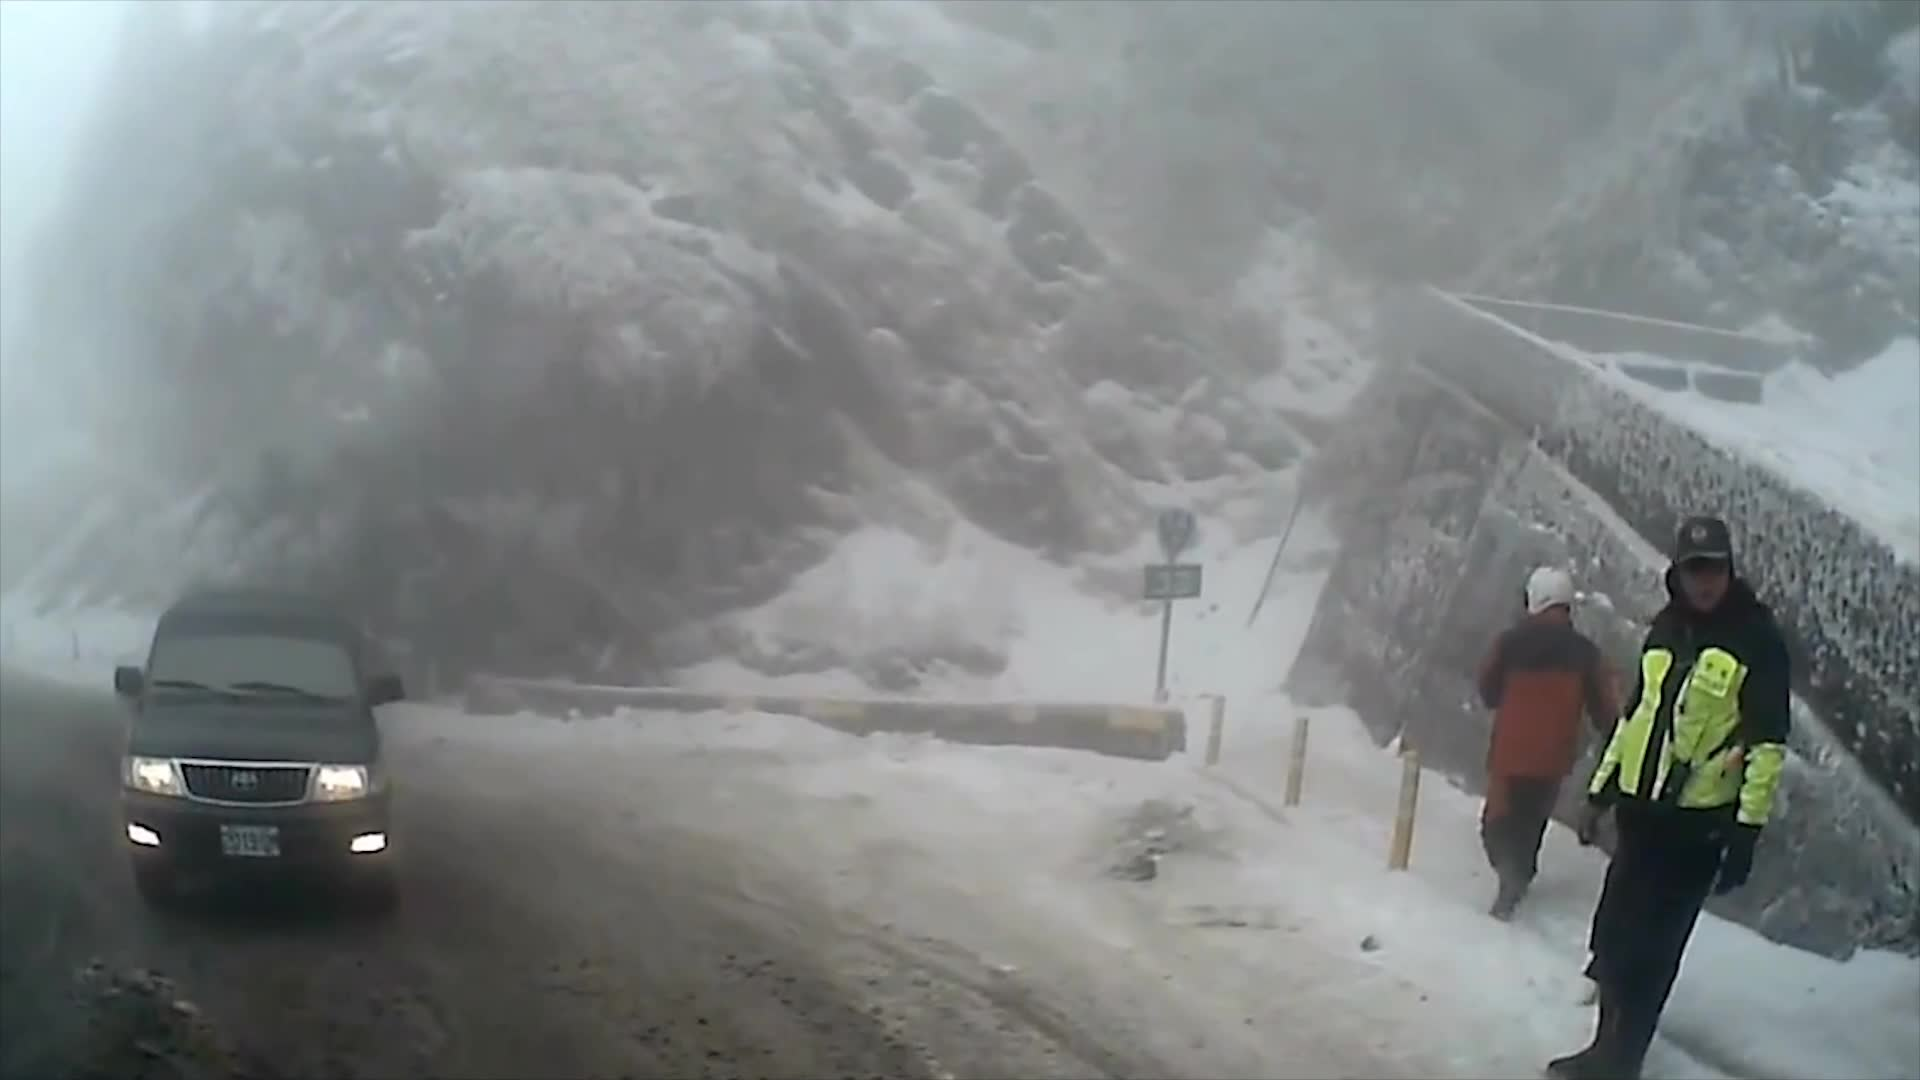pedestrian: (1549, 509, 1795, 1078), (1485, 559, 1622, 917)
vehicle: (112, 586, 405, 913)
